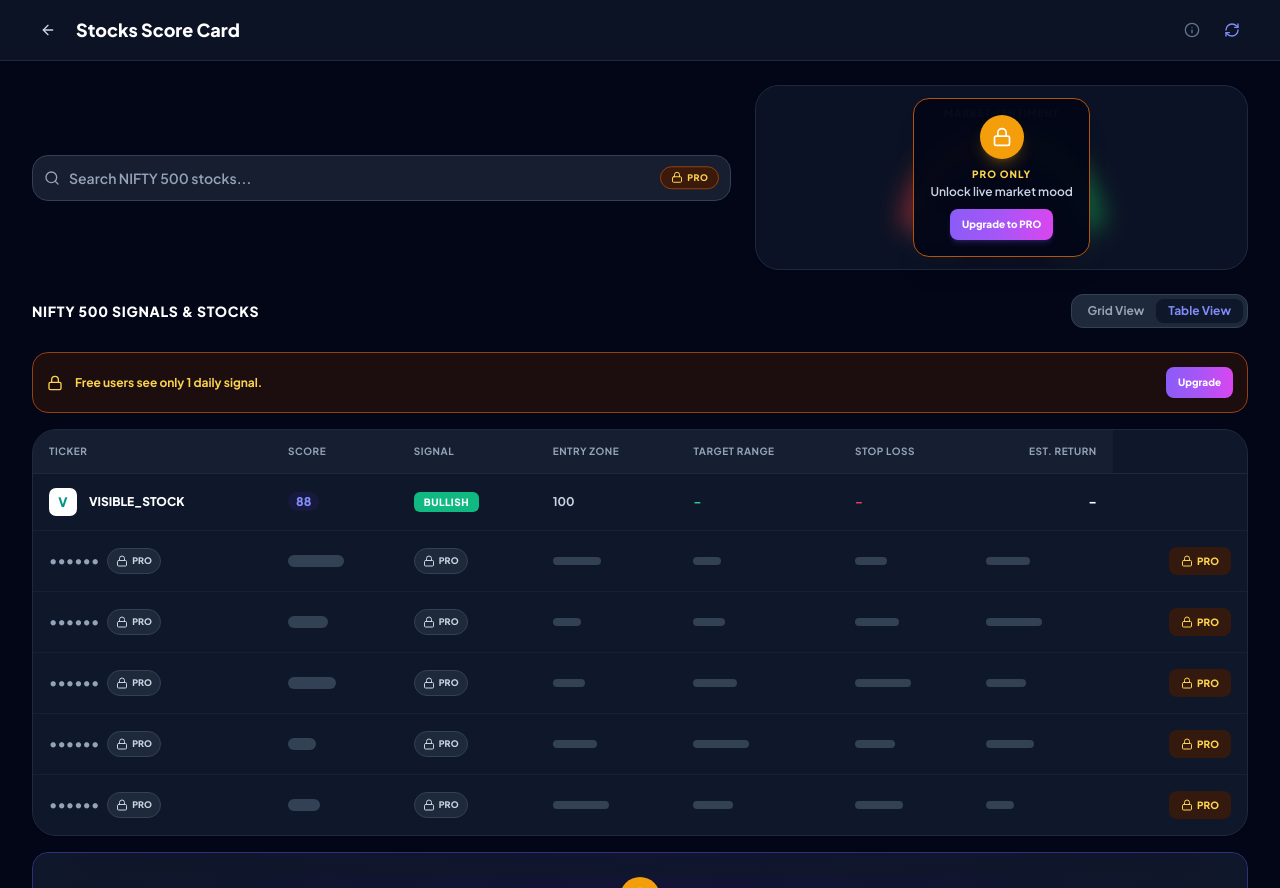
Test: TASK 10 — Insights Tab and Market Screens › 6. Stock Screener (/stock-screener) & Needle Angle Formula › free stock views render one real row and data-free locked placeholders
Expected: the row with test id "stock-card-0" is shown, 33,474 -> 1247,530
Expected: the text "VISIBLE_STOCK" is shown, 89,494 -> 184,510
Click the button "Grid View" at [1116, 311], box 1076,299 -> 1156,323
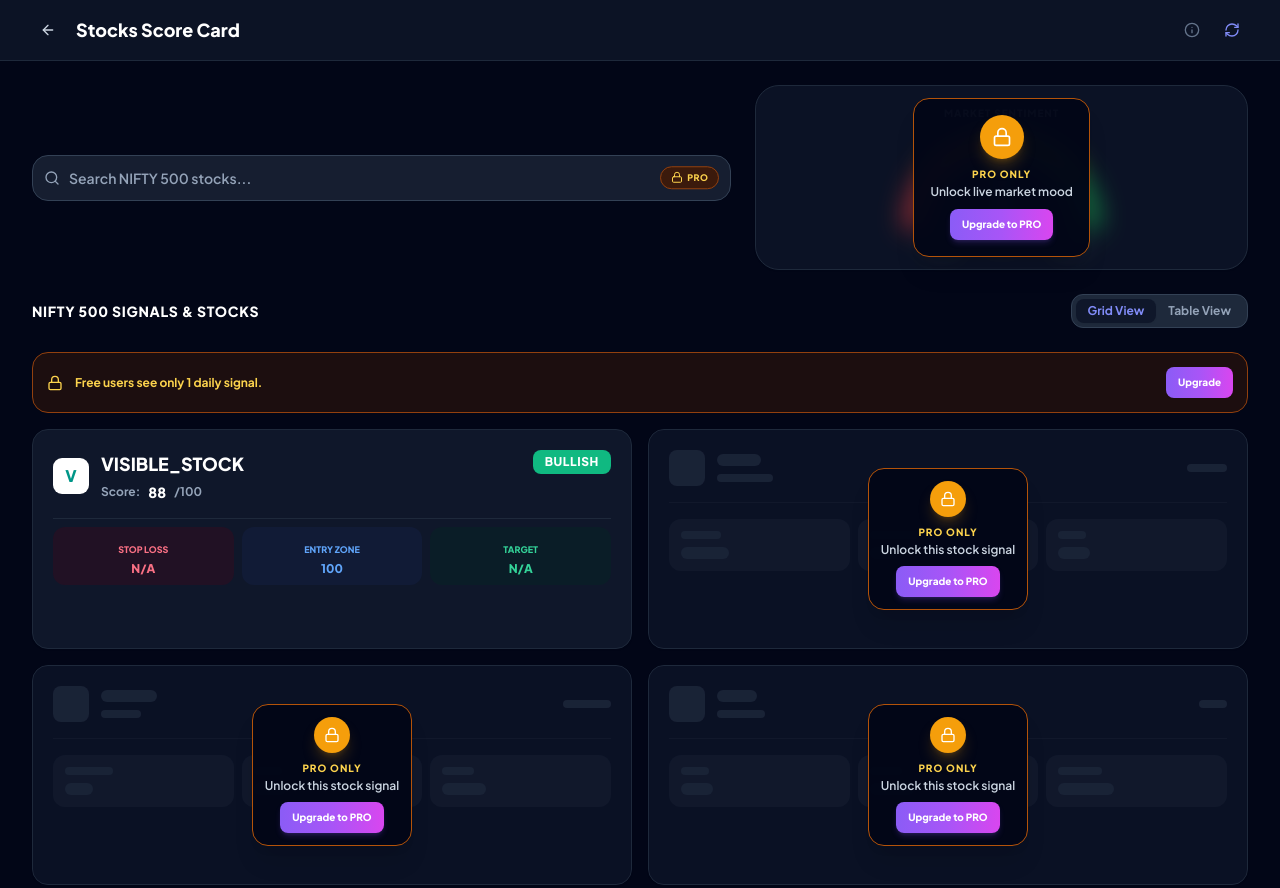
Now the element with test id "stock-card-1" is shown, box 648,429 -> 1248,649
Now the element with test id "stock-lock-overlay-1" is shown, box 649,430 -> 1247,648
